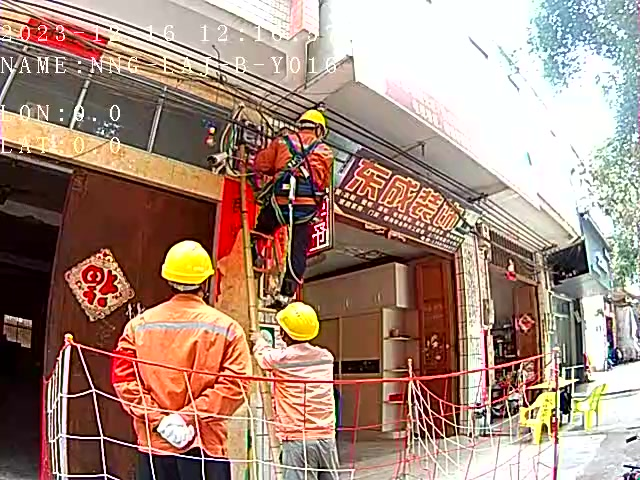badge: (109, 349, 137, 386)
downcloth: (253, 205, 314, 287), (281, 440, 338, 479)
halt: (161, 239, 215, 295), (276, 302, 320, 345), (296, 110, 326, 143)
person: (111, 238, 249, 480), (244, 107, 331, 305), (254, 300, 344, 480)
safebelt: (256, 129, 326, 232)
wglove: (159, 418, 192, 444)
yupsuit: (110, 290, 253, 451), (256, 338, 334, 435), (250, 128, 334, 203)
